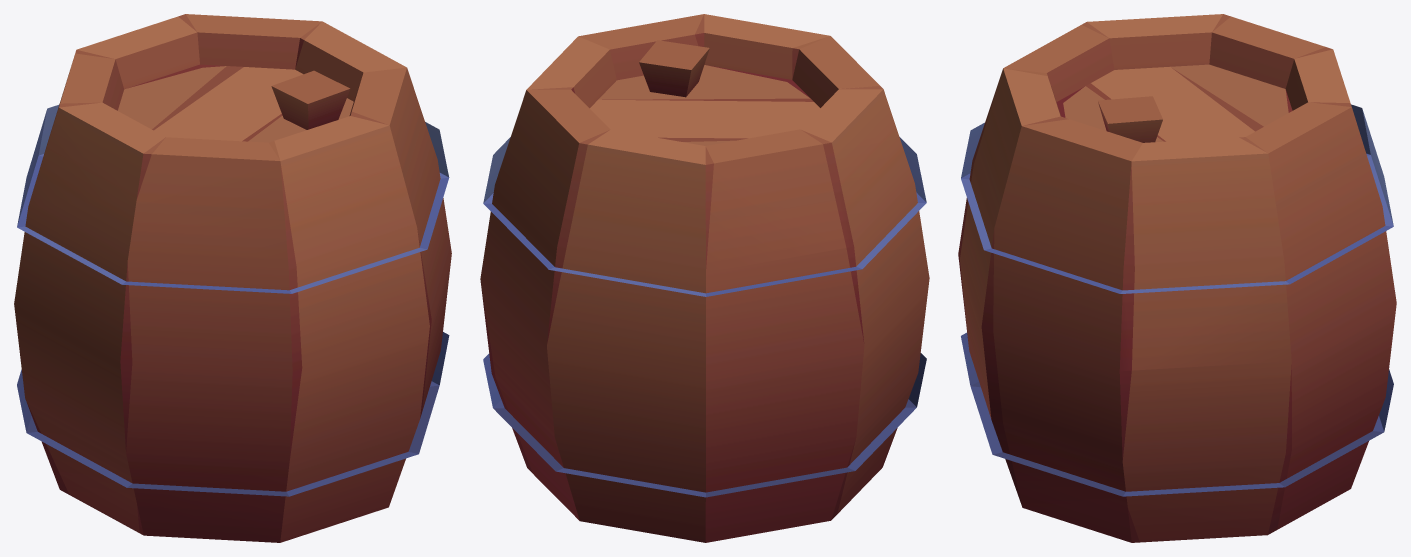
Rendered from barrel_1.glb.
The picture shows the model from 3 angles, left to right: view 1: azimuth 30°, elevation 25°; view 2: azimuth 150°, elevation 25°; view 3: azimuth 270°, elevation 25°; orthographic projection.
Parts seen in each view (by area): view 1: barrel_1; view 2: barrel_1; view 3: barrel_1.
Part boxes in pixels (<box>): barrel_1: <box>14,14,451,542</box>; barrel_1: <box>480,14,929,542</box>; barrel_1: <box>958,14,1396,542</box>.
Size of the model in its own units: 0.7112 by 0.691 by 0.7112.
Materials: 1 (1 with a texture image).
